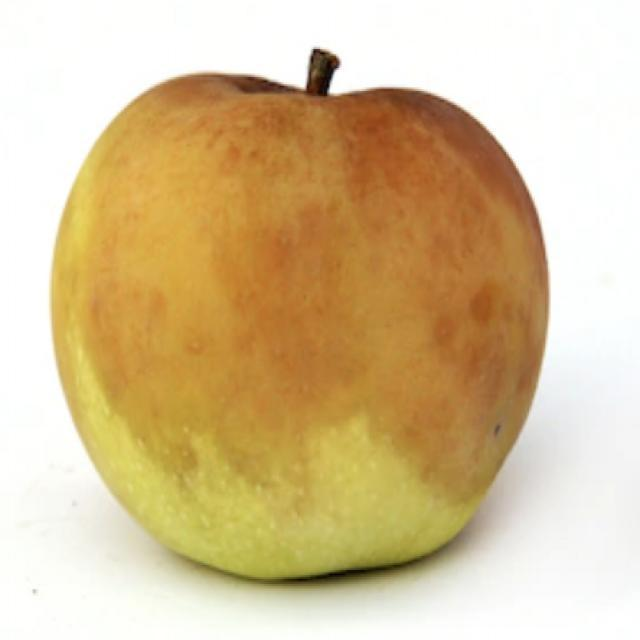Rotten: (70, 61, 538, 562)
